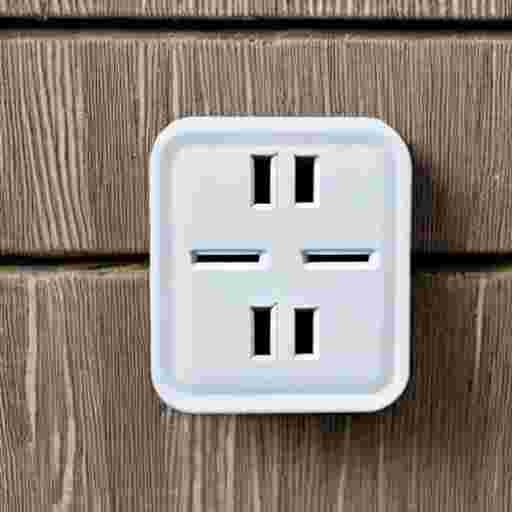power outlet: (150, 116, 411, 413)
